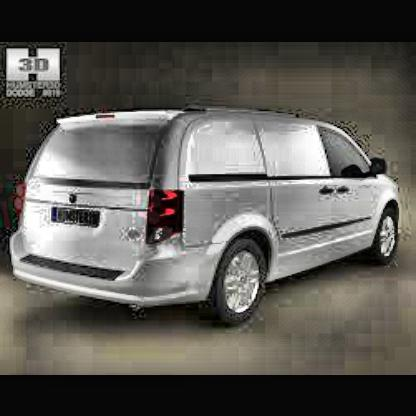Ram C-V Cargo Van Minivan 2012: (14, 97, 416, 314)
